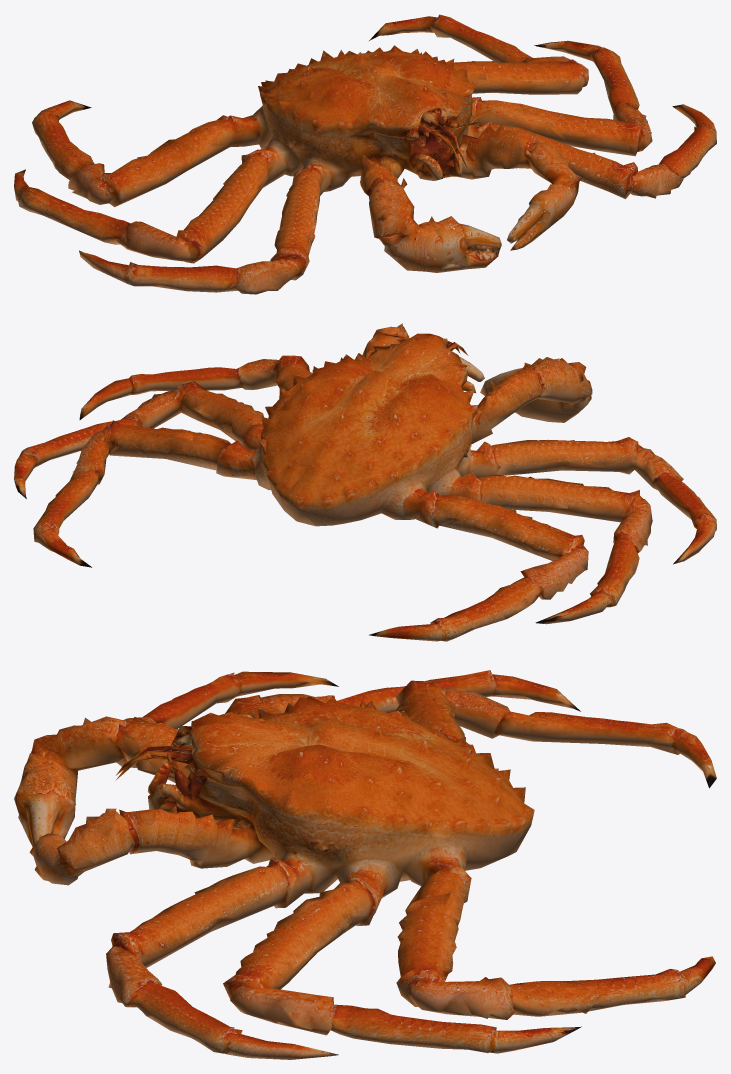
The picture shows the model from 3 angles, top to bottom: view 1: azimuth 30°, elevation 25°; view 2: azimuth 150°, elevation 25°; view 3: azimuth 270°, elevation 25°; orthographic projection. The views are drawn at different scales.
Parts seen in each view (by area): view 1: tripo_node_cbea1f73; view 2: tripo_node_cbea1f73; view 3: tripo_node_cbea1f73.
Part boxes in pixels (x1,y1,x2,y2): tripo_node_cbea1f73: [14, 14, 716, 294]; tripo_node_cbea1f73: [14, 323, 716, 641]; tripo_node_cbea1f73: [14, 670, 716, 1059].
Bounding box in the file's own units: 0.9763 × 0.1993 × 0.7713.
Materials: 1 (1 with a texture image).
